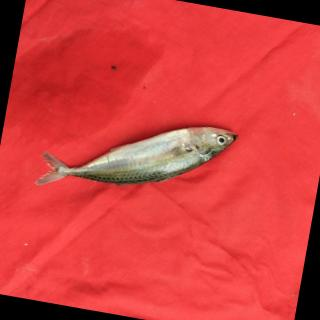Ikan: (28, 81, 257, 234)
